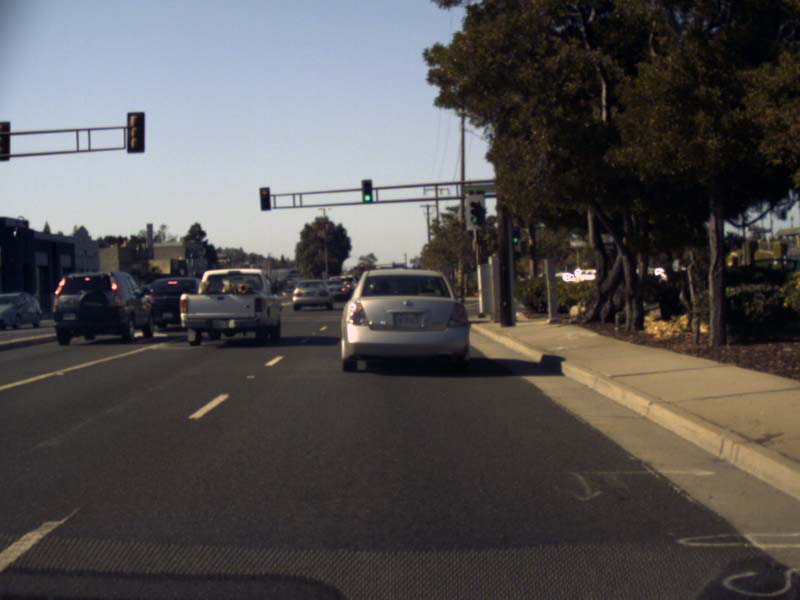Green: (361, 179, 373, 201), (470, 203, 478, 223), (511, 225, 519, 244)
Red: (259, 186, 270, 210), (359, 263, 363, 271)
